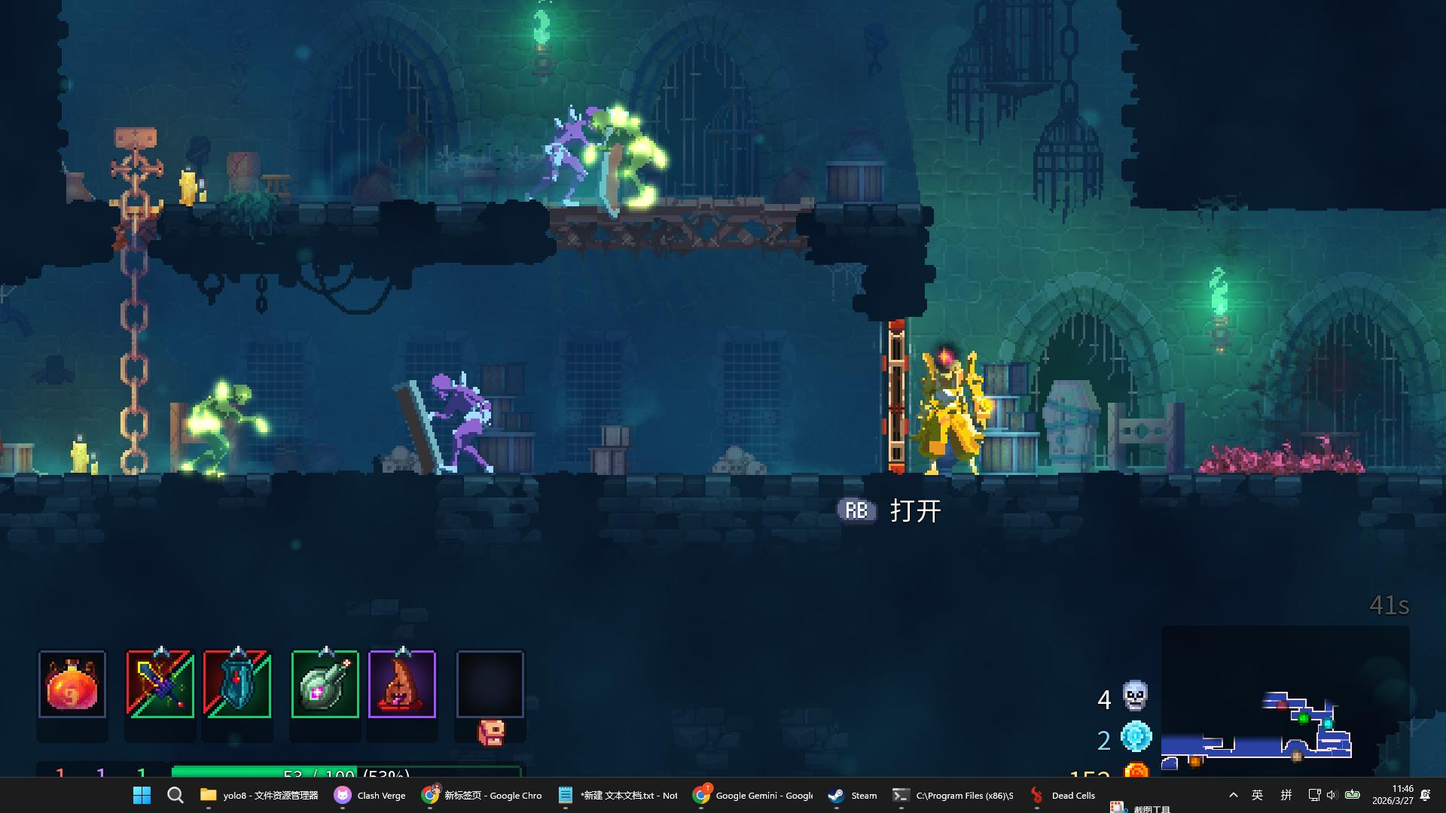gamer: (915, 344, 997, 480)
green1: (590, 104, 677, 210), (186, 381, 266, 477)
p1: (393, 373, 506, 475), (537, 111, 591, 204)
